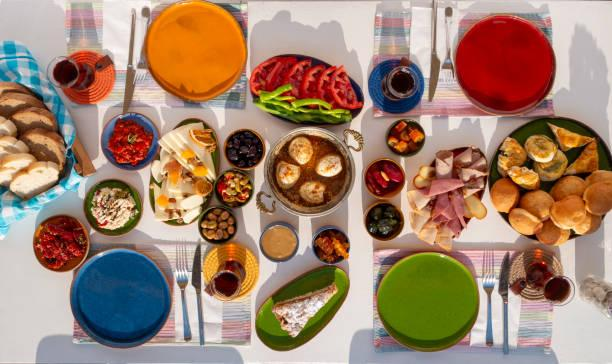Braised Crucian Carp: (2, 42, 89, 237), (490, 113, 612, 244), (263, 126, 355, 216), (254, 264, 349, 350), (146, 116, 221, 224), (249, 54, 361, 126), (413, 146, 488, 248)
